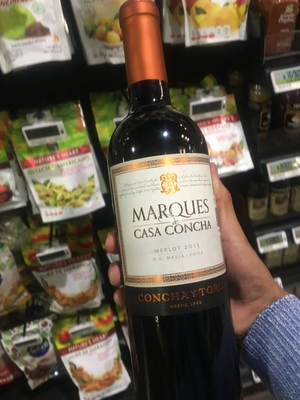marques de casa concha merlot: (100, 10, 250, 390)
